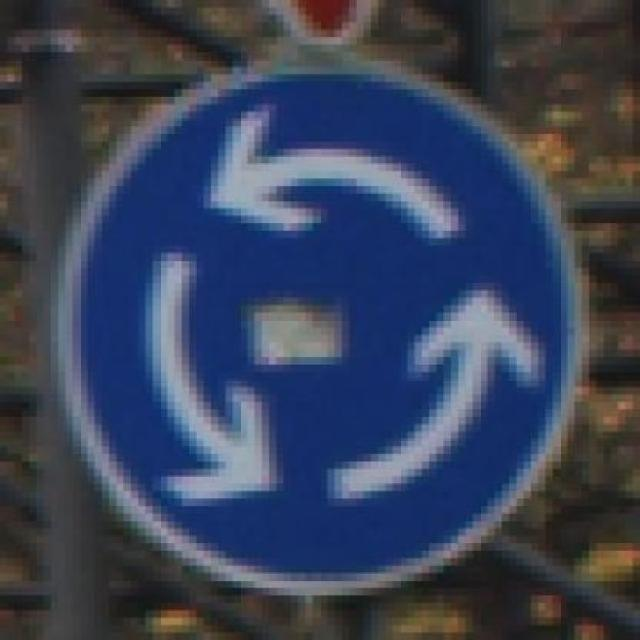Round-About: (51, 22, 597, 610)
